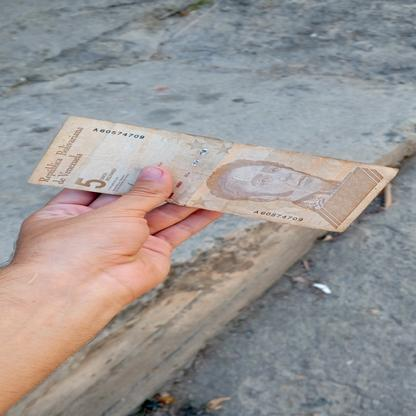five-front-vef: (26, 115, 400, 233)
